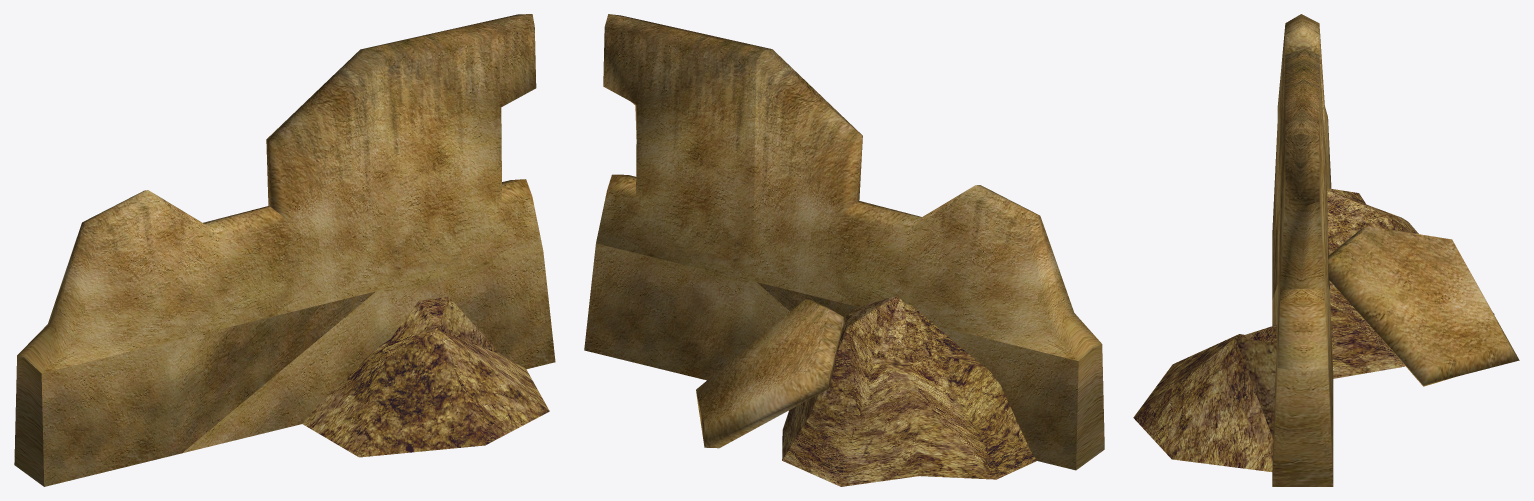
3 renders of one model, left to right at view 1: azimuth 30°, elevation 25°; view 2: azimuth 150°, elevation 25°; view 3: azimuth 270°, elevation 25°, orthographic. The views are drawn at different scales.
Visible parts, largest first — view 1: hr_rn7-col; view 2: hr_rn7-col; view 3: hr_rn7-col.
Part boxes in pixels (<box>): hr_rn7-col: <box>14,14,555,486</box>; hr_rn7-col: <box>584,14,1104,486</box>; hr_rn7-col: <box>1133,14,1519,486</box>.
Size of the model in its own units: 7.14 by 4.55 by 4.53.
Materials: 4 (4 with a texture image).
